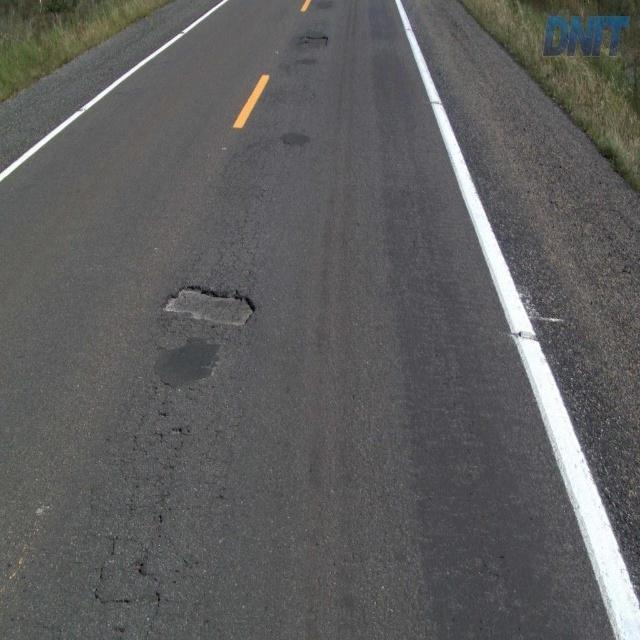pothole: (158, 273, 255, 335)
